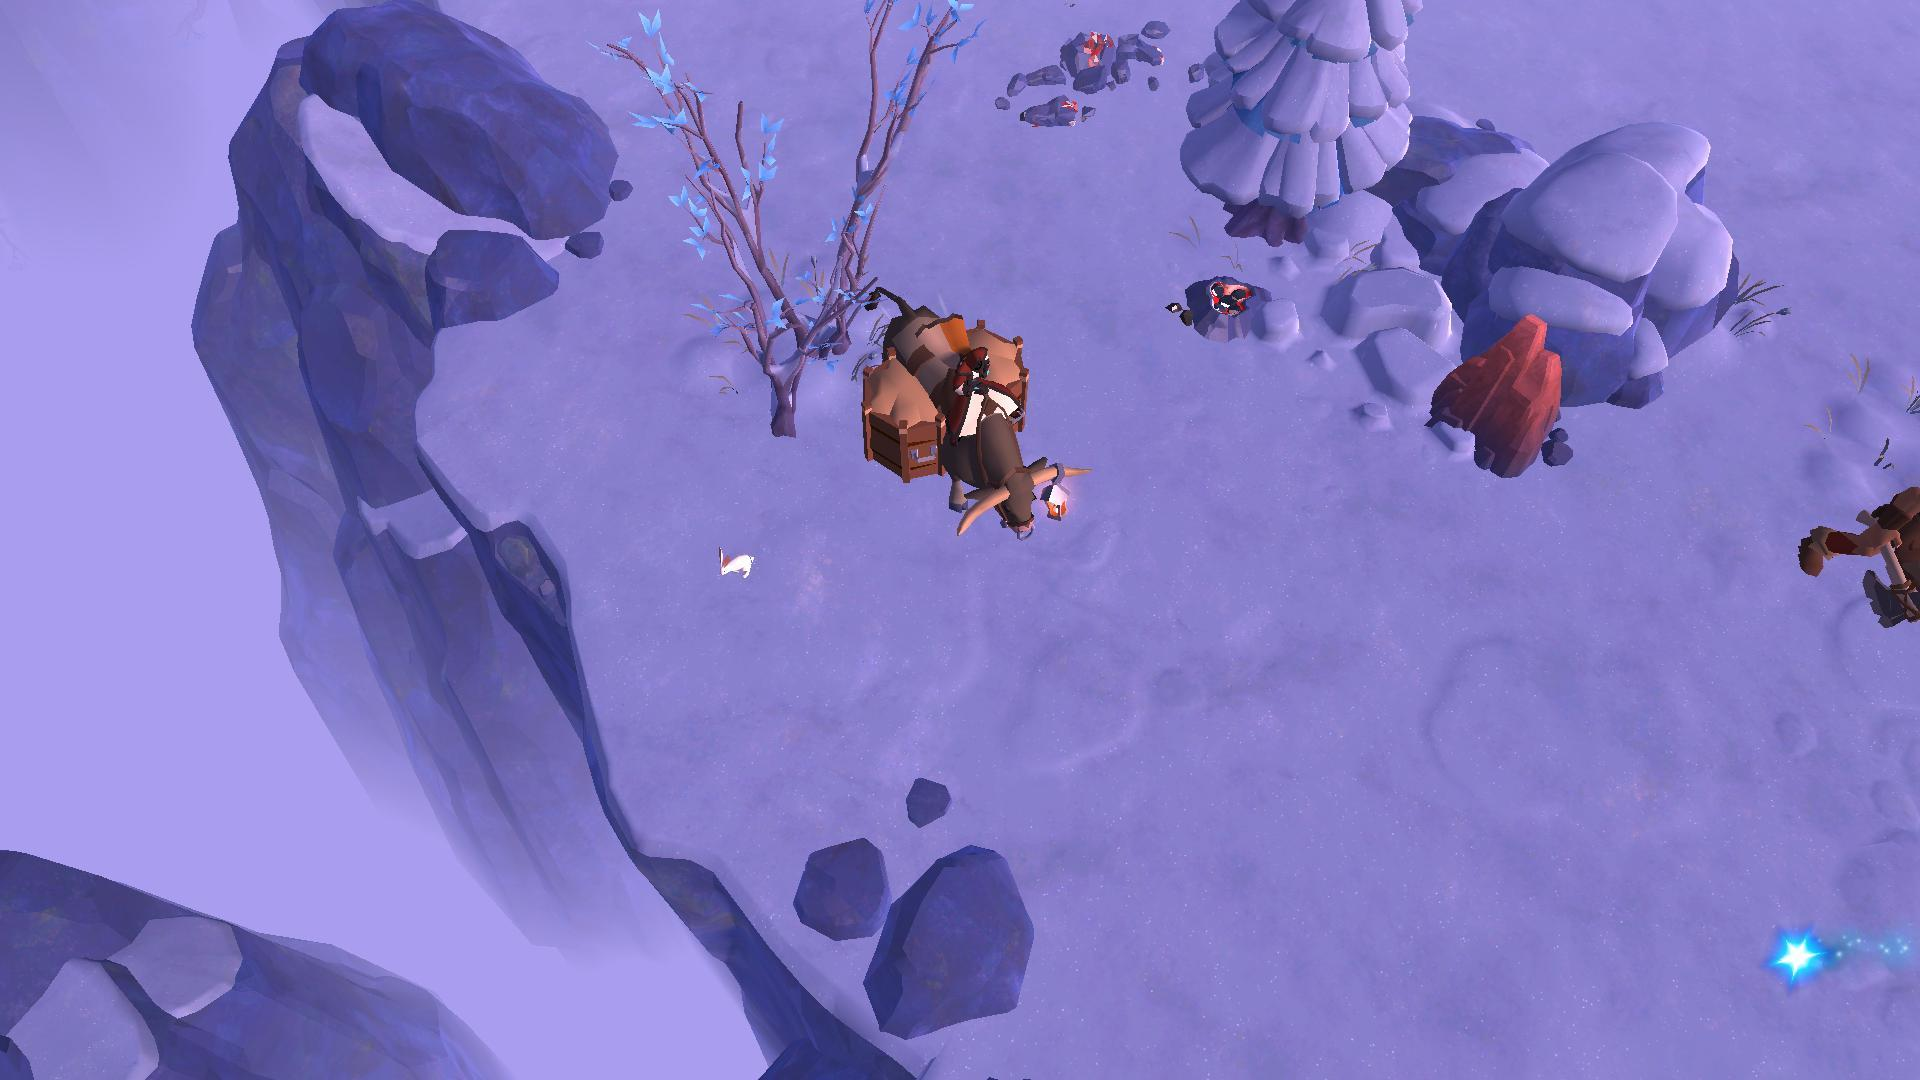rock_t5: (1427, 310, 1563, 477)
